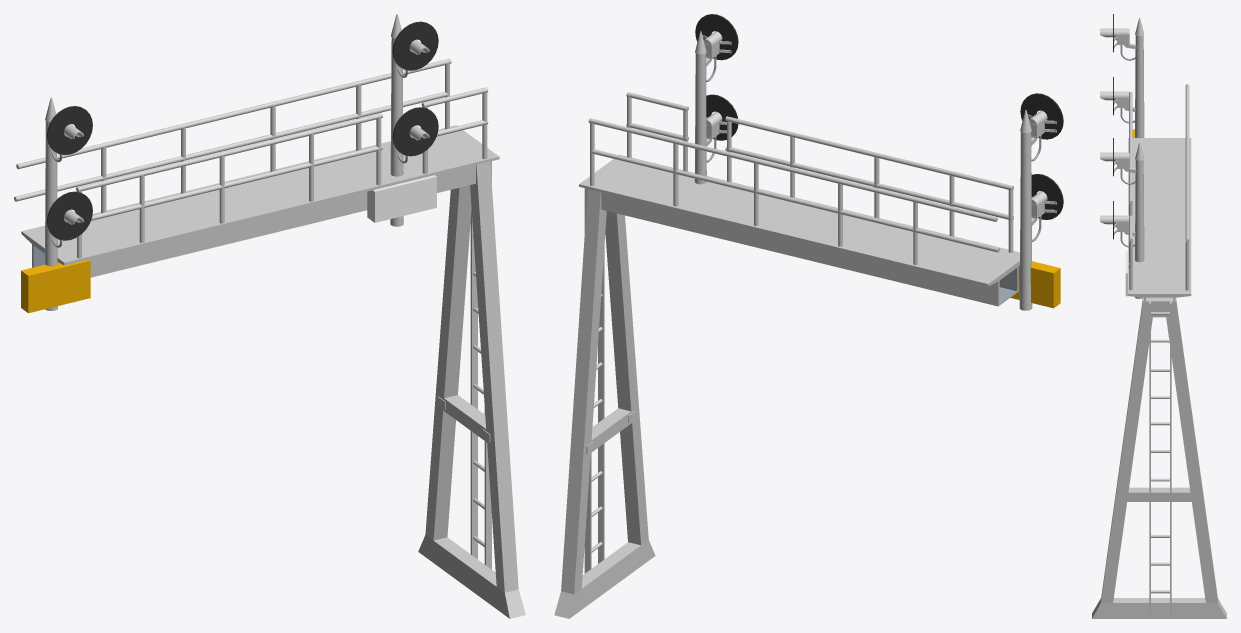
The picture shows the model from 3 angles, left to right: view 1: azimuth 30°, elevation 25°; view 2: azimuth 150°, elevation 25°; view 3: azimuth 270°, elevation 25°; orthographic projection. The views are drawn at different scales.
Visible parts, largest first — view 1: group_14, group_26, Box (×2), group_40, group_39, group_65, group_58, group_59, mesh_42_instance_1, mesh_42_instance_0, mesh_1_instance_1, mesh_1_instance_0 (+3 smaller); view 2: group_14, group_26, group_39, group_40, _instance_0, group_58, group_59, group_65, _instance_1, Box, mesh_1_instance_1, mesh_1_instance_0 (+2 smaller); view 3: group_26, group_14, _instance_1, _instance_0, group_39, group_70, group_65, group_58, mesh_5_instance_0, mesh_5_instance_1, mesh_46_instance_0, mesh_46_instance_1 (+1 smaller).
Boxes of the visible parts, x1=… form: group_14: x1=21, y1=125, x2=499, y2=277; group_26: x1=418, y1=161, x2=525, y2=618; Box (×2): x1=21, y1=175, x2=436, y2=313; group_40: x1=14, y1=92, x2=449, y2=201; group_39: x1=16, y1=58, x2=451, y2=169; group_65: x1=470, y1=389, x2=491, y2=569; group_58: x1=76, y1=113, x2=382, y2=191; group_59: x1=91, y1=145, x2=382, y2=220; mesh_42_instance_1: x1=394, y1=108, x2=437, y2=155; mesh_42_instance_0: x1=48, y1=193, x2=91, y2=239; mesh_1_instance_1: x1=394, y1=23, x2=437, y2=69; mesh_1_instance_0: x1=48, y1=107, x2=91, y2=154; group_14: x1=579, y1=154, x2=1019, y2=306; group_26: x1=554, y1=189, x2=655, y2=618; group_39: x1=588, y1=118, x2=997, y2=221; group_40: x1=591, y1=149, x2=999, y2=252; _instance_0: x1=1019, y1=132, x2=1032, y2=310; group_58: x1=725, y1=116, x2=1013, y2=190; group_59: x1=725, y1=146, x2=1013, y2=220; group_65: x1=584, y1=404, x2=604, y2=573; _instance_1: x1=694, y1=53, x2=706, y2=184; Box: x1=1010, y1=261, x2=1060, y2=308; mesh_1_instance_1: x1=696, y1=15, x2=736, y2=59; mesh_1_instance_0: x1=1021, y1=94, x2=1061, y2=138; group_26: x1=1092, y1=297, x2=1226, y2=618; group_14: x1=1128, y1=138, x2=1191, y2=300; _instance_1: x1=1135, y1=160, x2=1144, y2=298; _instance_0: x1=1135, y1=35, x2=1144, y2=138; group_39: x1=1185, y1=84, x2=1189, y2=242; group_70: x1=1149, y1=301, x2=1171, y2=484; group_65: x1=1149, y1=484, x2=1171, y2=613; group_58: x1=1129, y1=91, x2=1132, y2=204; mesh_5_instance_0: x1=1100, y1=28, x2=1129, y2=44; mesh_5_instance_1: x1=1100, y1=152, x2=1129, y2=168; mesh_46_instance_0: x1=1100, y1=91, x2=1129, y2=107; mesh_46_instance_1: x1=1100, y1=215, x2=1129, y2=231.
Size of the model in its own units: 7.68 by 9.31 by 2.56.
